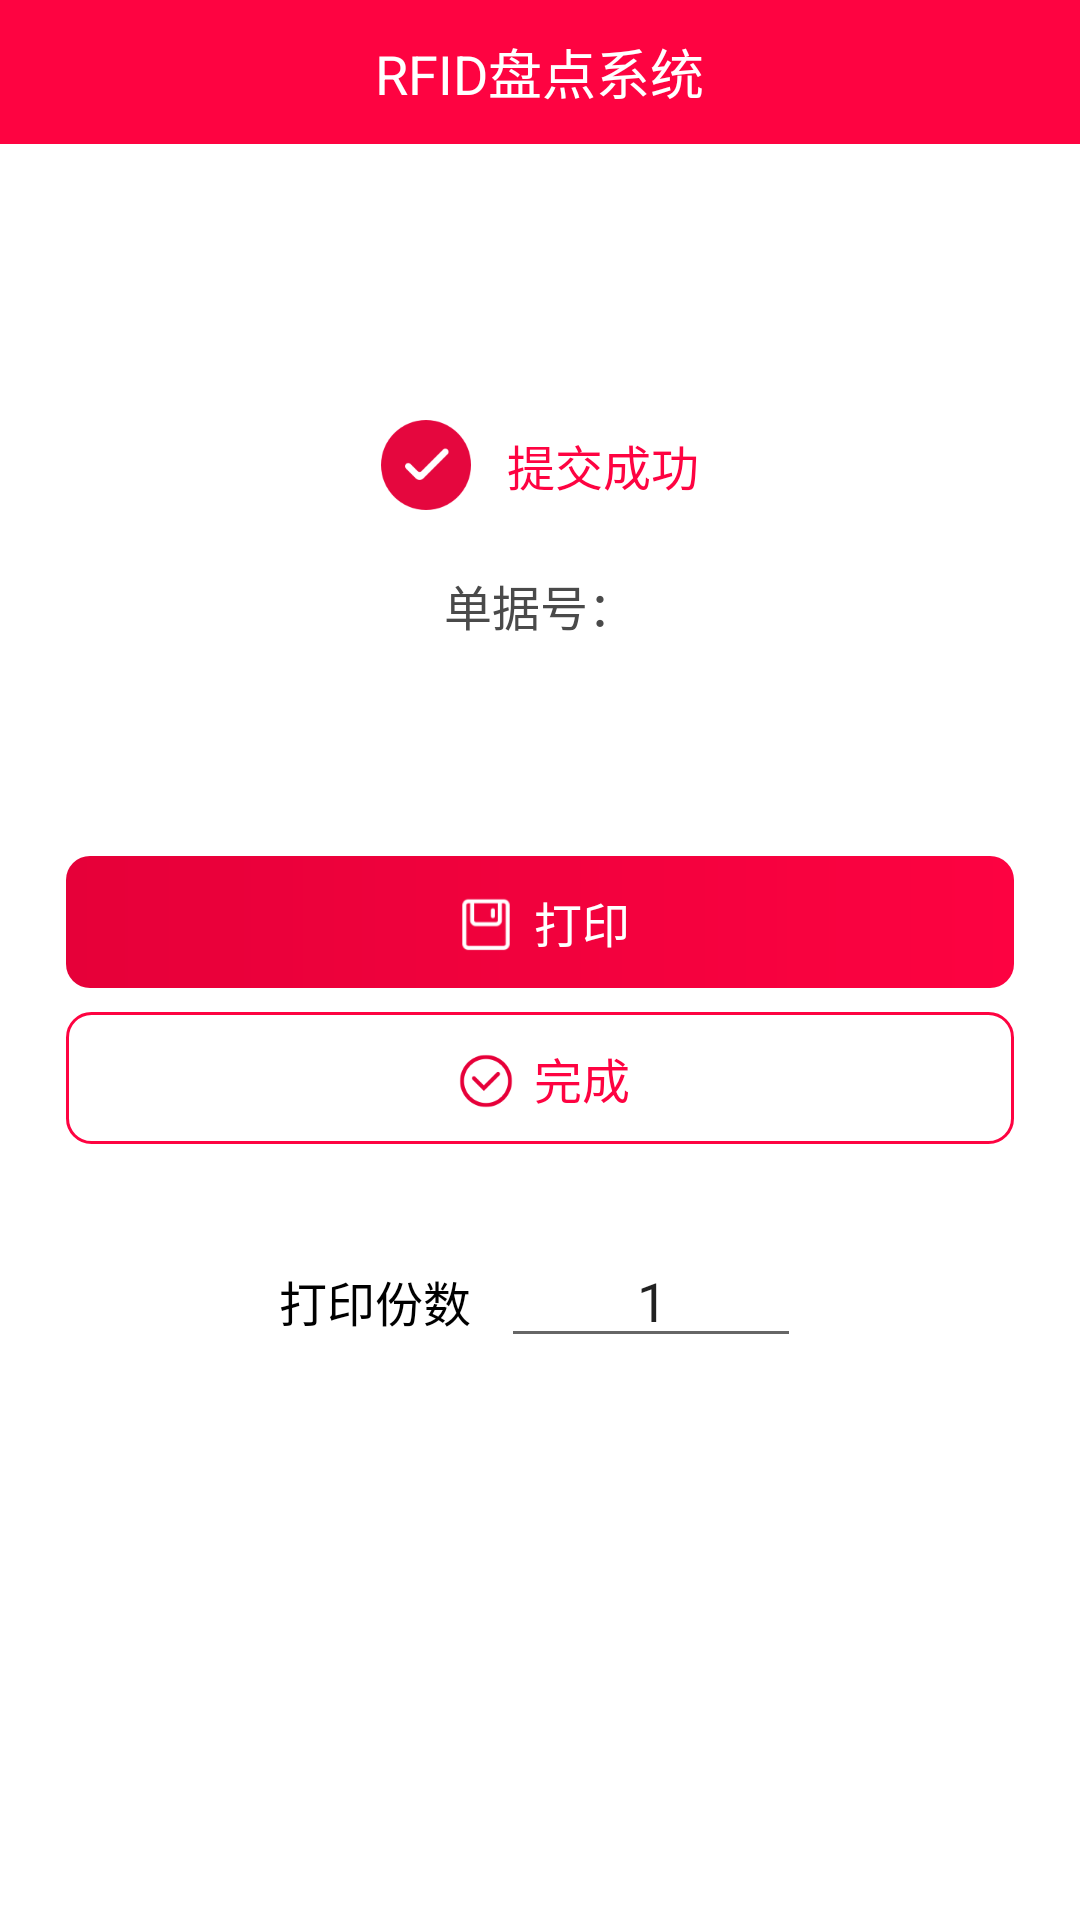

Screen size 1080px×1920px. Icon name, then its center in pixels as [x,y]:
save: [486,924]
submit success: [426,465]
